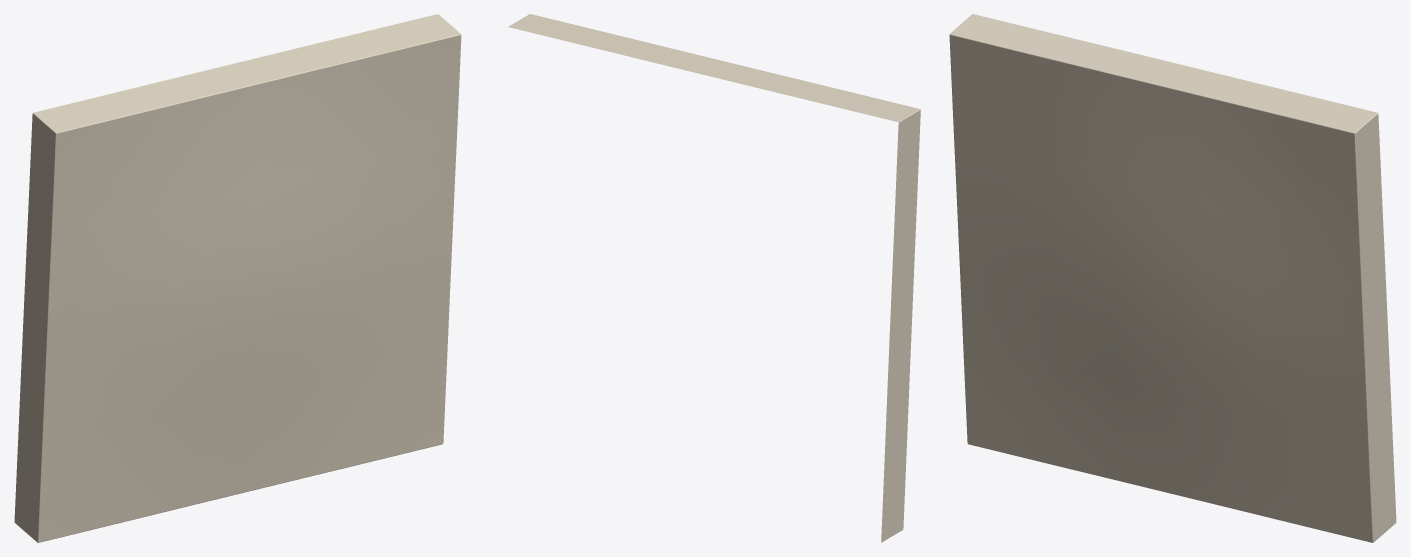
The model's file is cream.glb.
3 renders of one model, left to right at view 1: azimuth 30°, elevation 25°; view 2: azimuth 150°, elevation 25°; view 3: azimuth 330°, elevation 25°, orthographic. The views are drawn at different scales.
Visible parts, largest first — view 1: Object010; view 2: Object010; view 3: Object010.
Part boxes in pixels (x1,y1,x2,y2): Object010: (14,14,461,542); Object010: (508,14,920,542); Object010: (949,14,1396,542).
Size of the model in its own units: 0.0528 by 0.053 by 0.00936.
